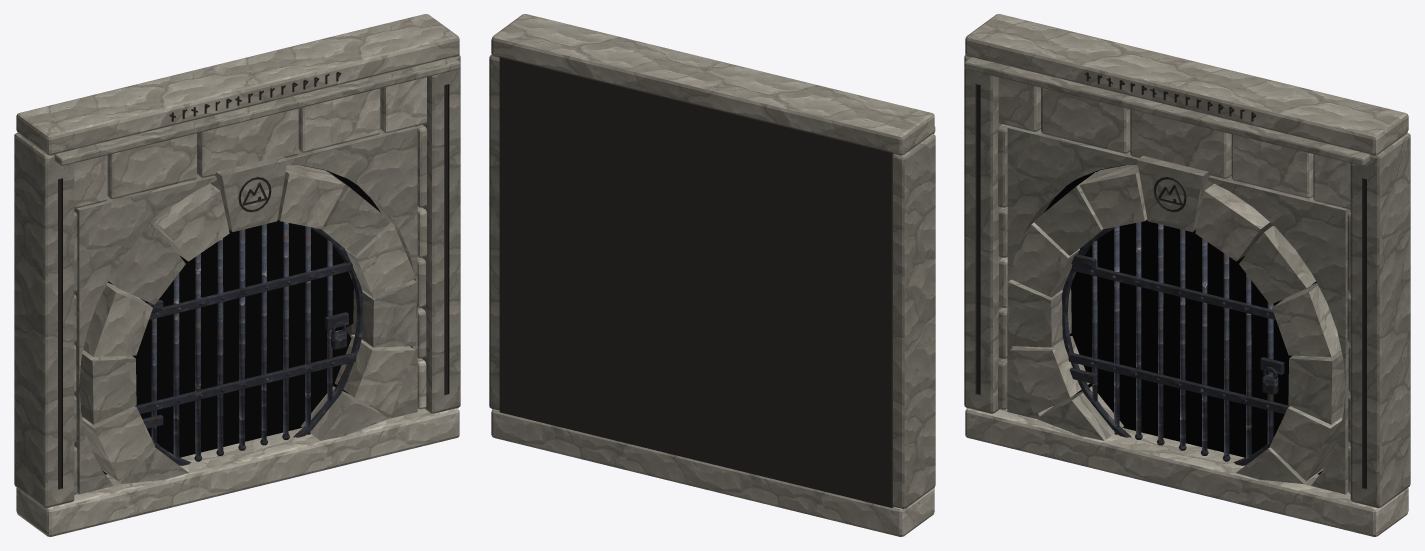
The model's file is qb_vault_gate.glb.
The picture shows the model from 3 angles, left to right: view 1: azimuth 30°, elevation 25°; view 2: azimuth 150°, elevation 25°; view 3: azimuth 330°, elevation 25°; orthographic projection.
Visible parts, largest first — view 1: model; view 2: model; view 3: model.
Boxes of the visible parts, left/top/right/bottom form: model: left=14, top=14, right=460, bottom=536; model: left=489, top=14, right=935, bottom=536; model: left=964, top=14, right=1410, bottom=536.
Bounding box in the file's own units: 1.9 × 1.75 × 0.32.
Materials: 8 (5 with a texture image).
